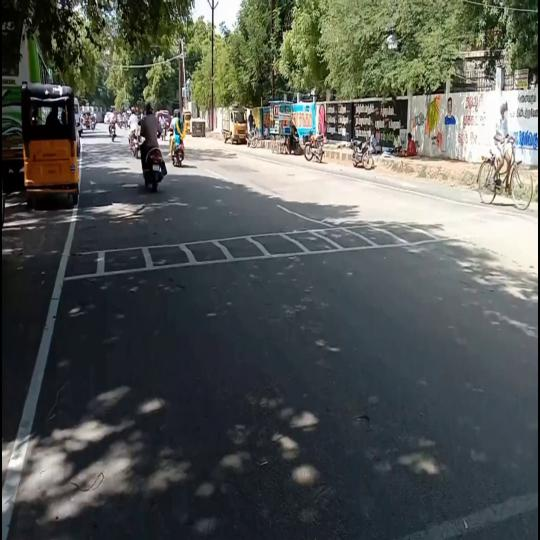Speed Bump: (65, 222, 451, 285)
